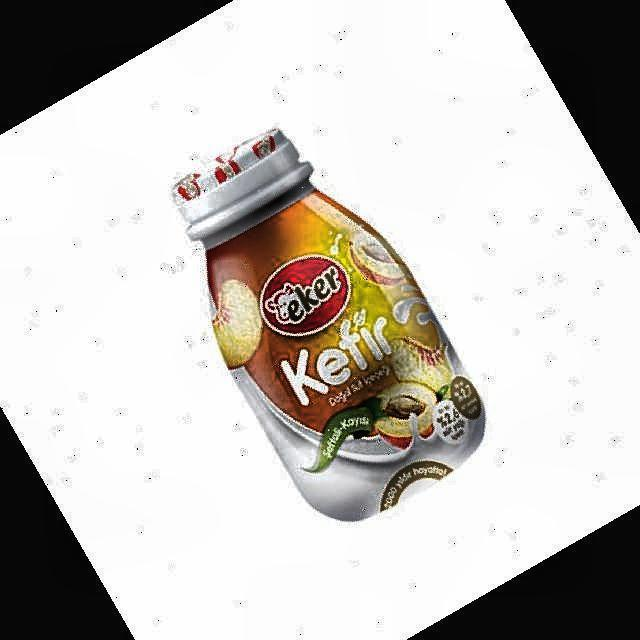plastic: (174, 130, 485, 520)
